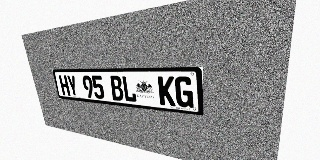5: (91, 75, 105, 99)
9: (81, 75, 95, 98)
B: (109, 76, 124, 101)
G: (175, 76, 193, 108)
H: (58, 75, 71, 96)
K: (158, 76, 176, 106)
L: (121, 76, 137, 102)
Y: (66, 75, 79, 97)
